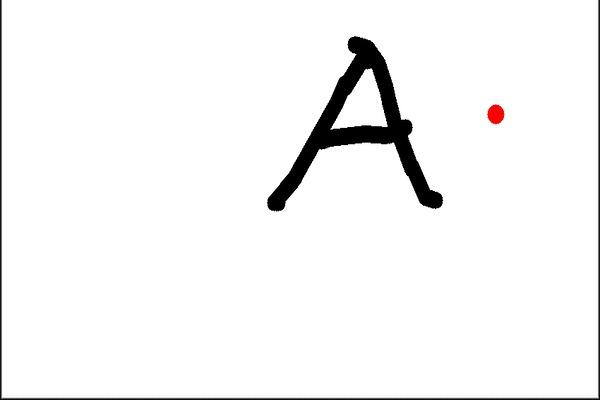A: (256, 29, 453, 218)
